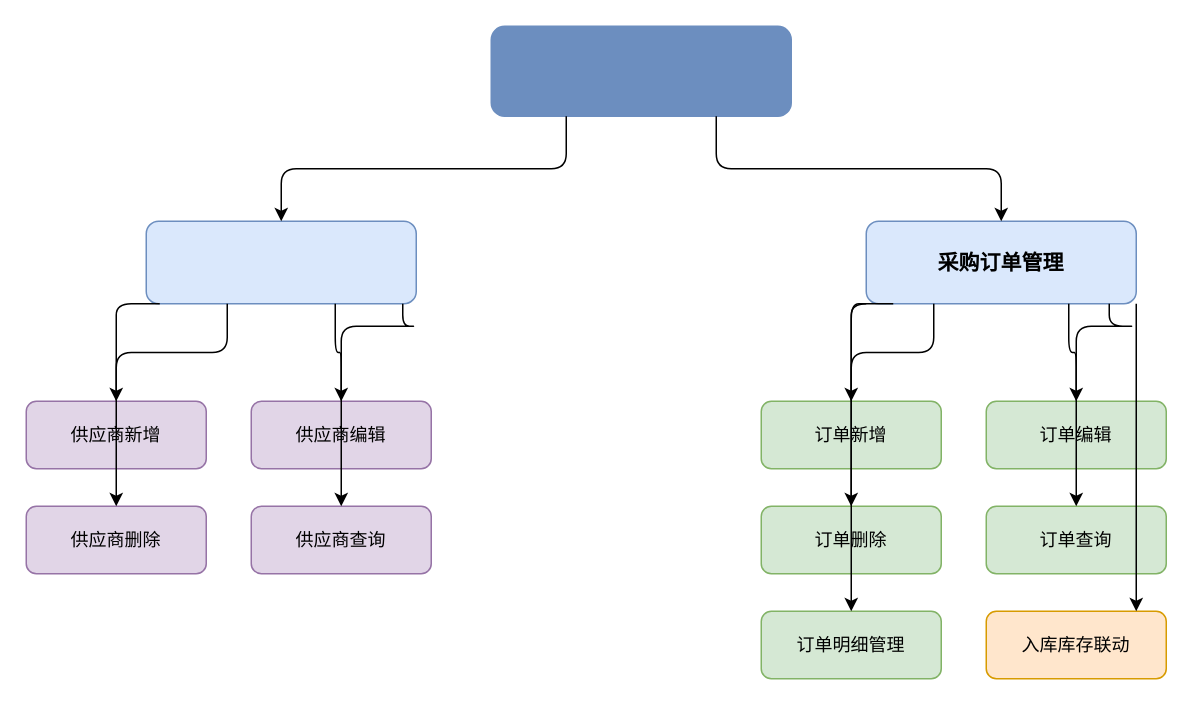
Image size: 1193x705. Some labels were removed from this diagram. The box of each missing label's shape, as (x1, y1, x2, y2) in pixels:
供应商管理: (145, 220, 416, 304)
采购管理模块: (490, 25, 791, 116)
